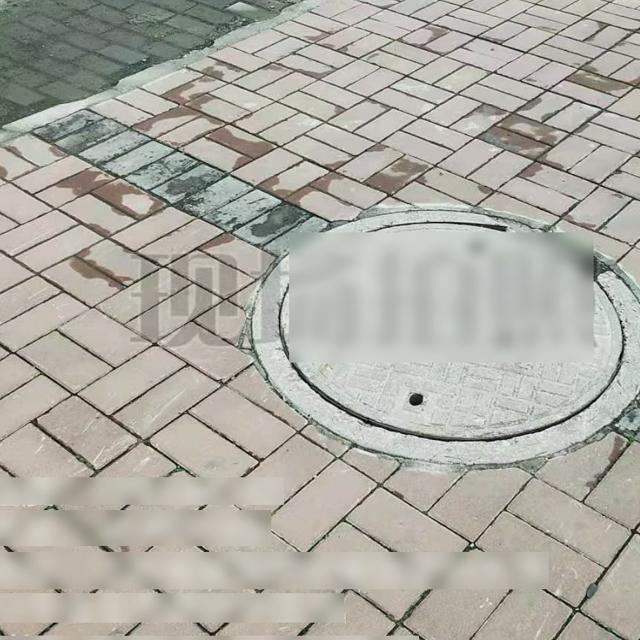circle: (243, 210, 640, 474)
